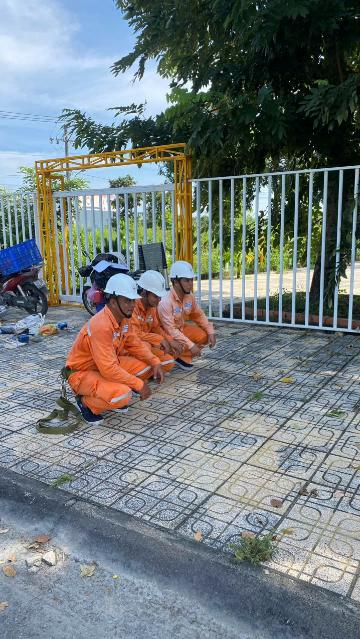harness: (51, 364, 89, 380)
helmet: (103, 269, 145, 304), (140, 269, 172, 302), (167, 260, 205, 280)
shoes: (73, 395, 107, 428), (173, 356, 198, 373), (111, 405, 131, 416)
